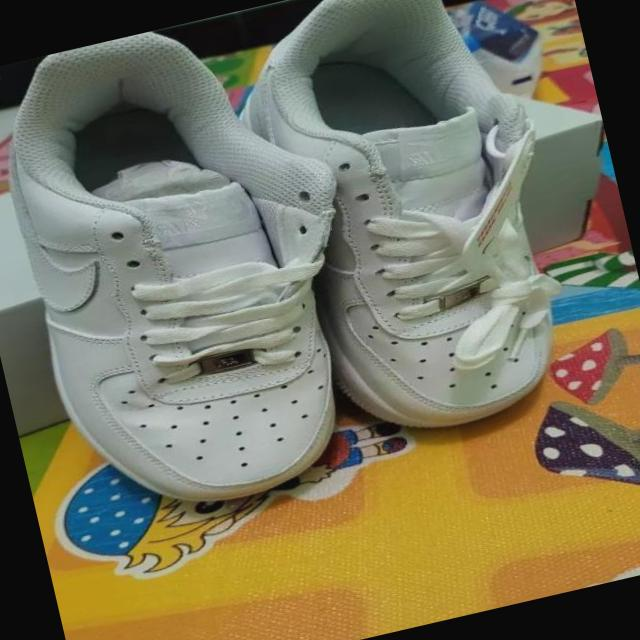nike_original_airforce: (0, 3, 396, 538), (227, 0, 601, 457)
